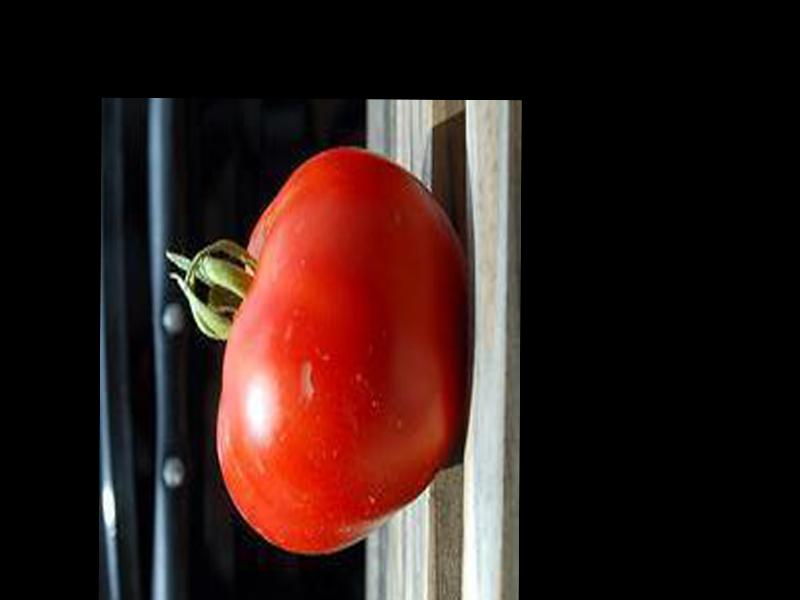Tomato: (166, 147, 464, 554)
